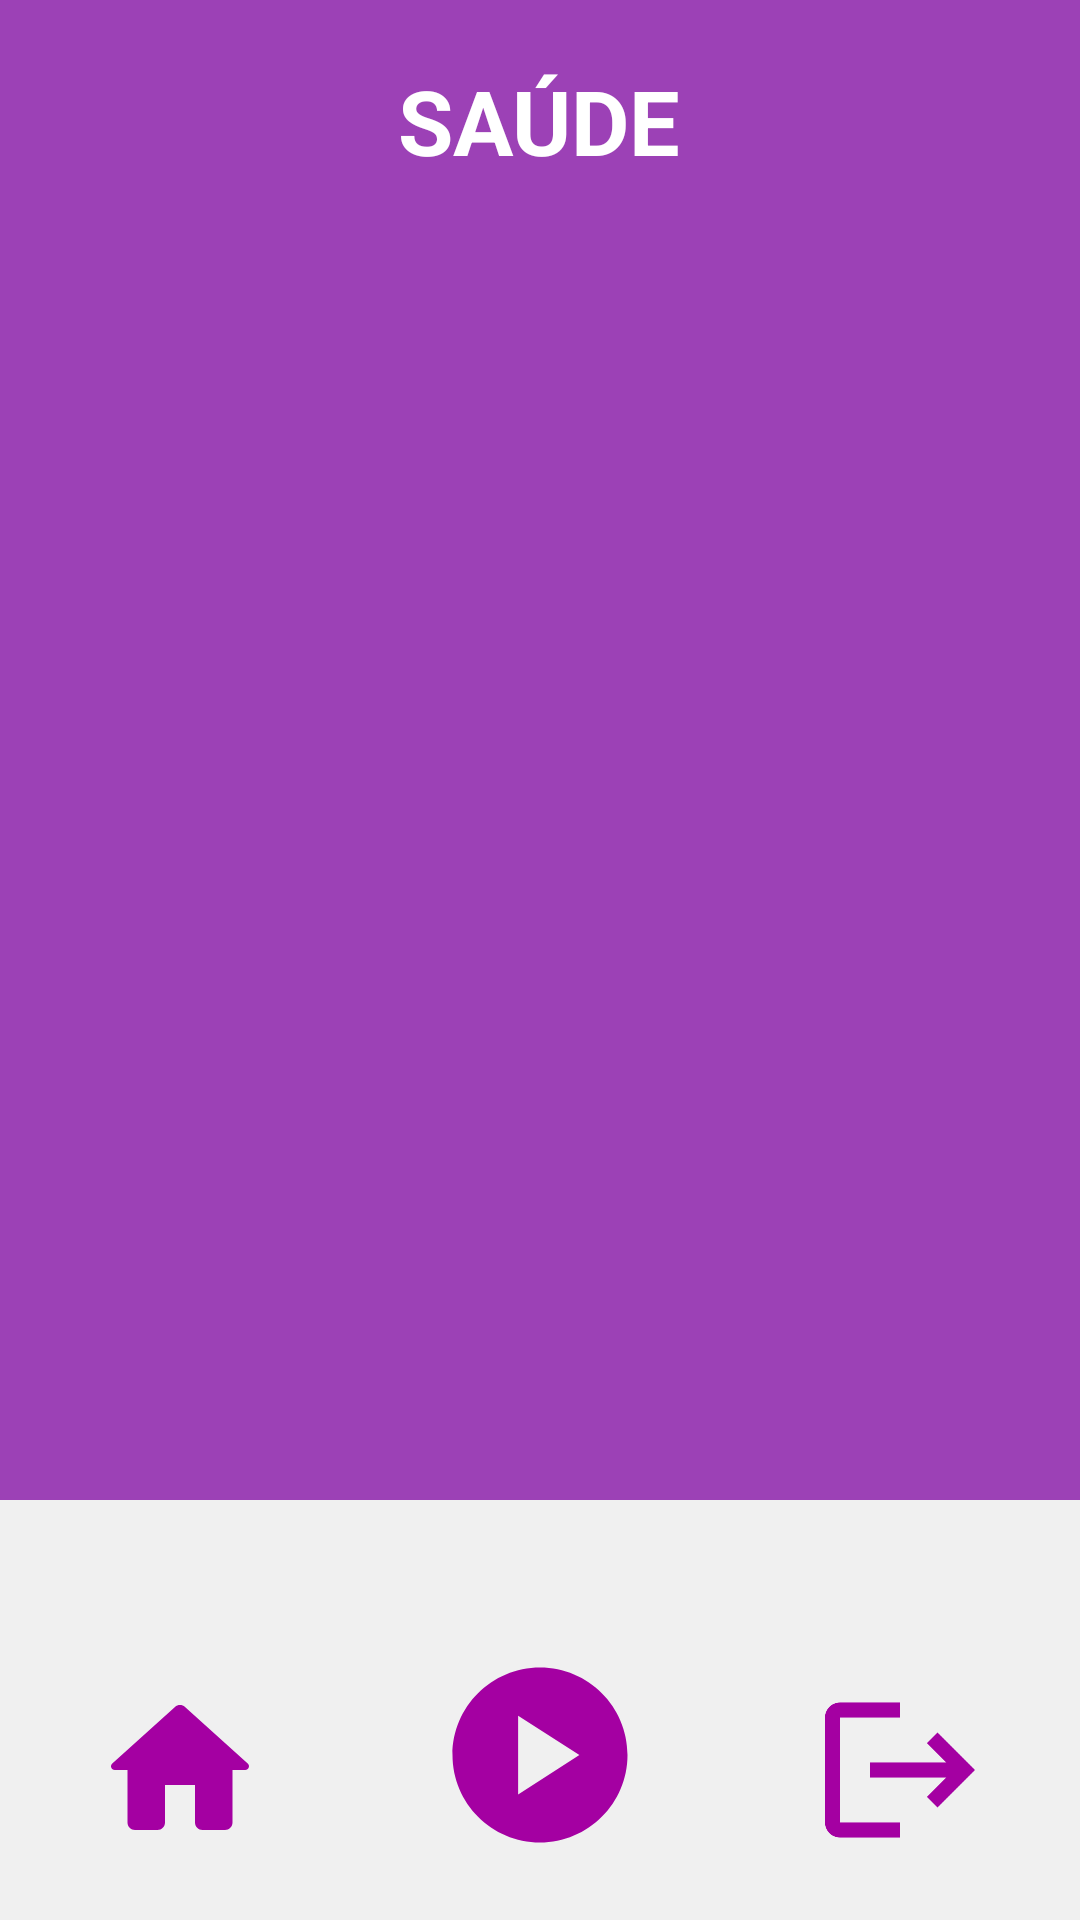

Where icons sit on this 1080px×1920px app screen, as (x1, y1, x2, y2):
home: (111, 1705, 249, 1830)
play circle: (452, 1667, 628, 1843)
